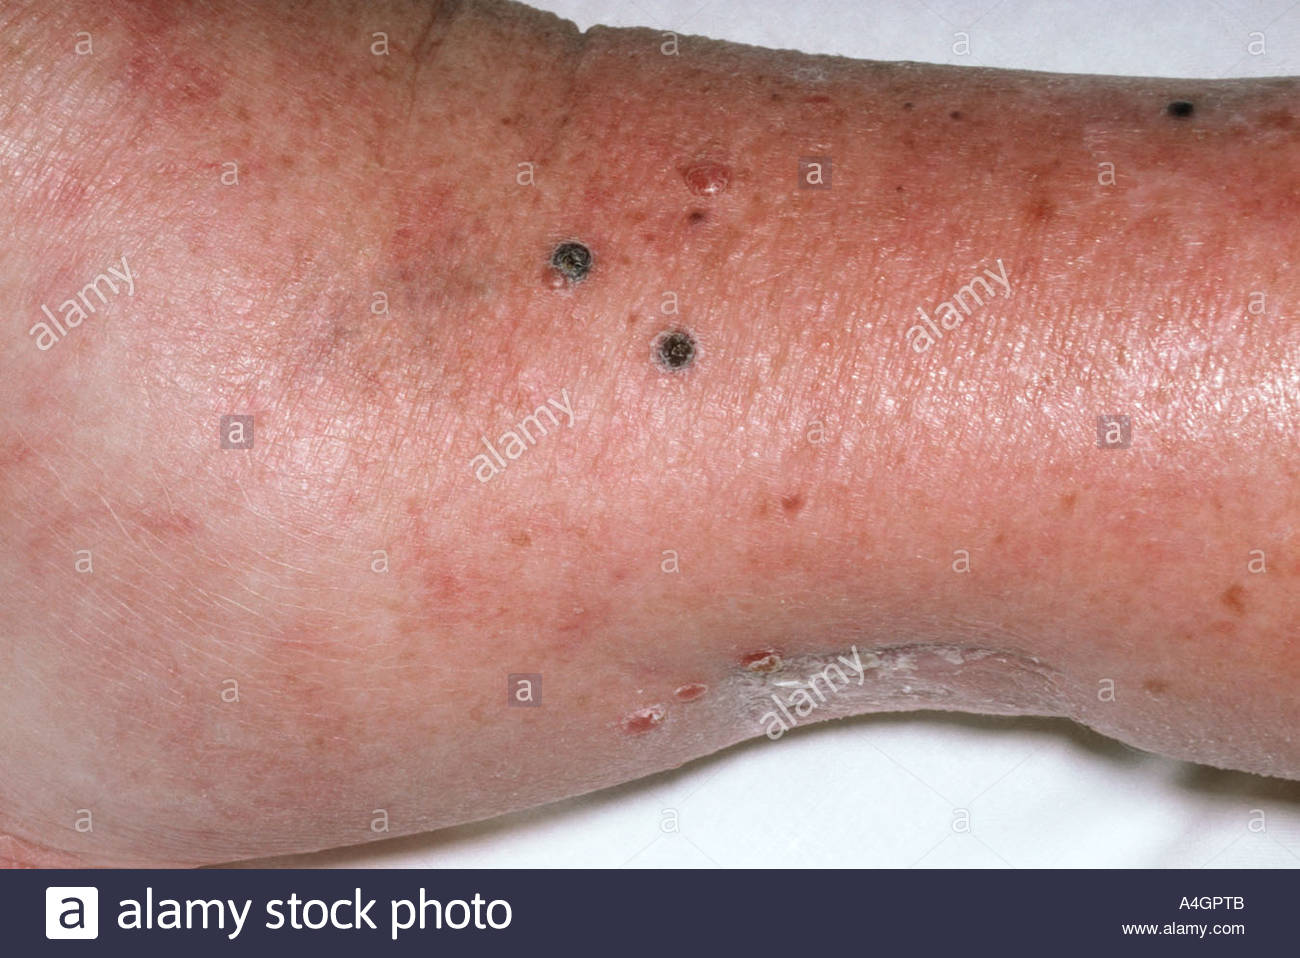melanoma: (474, 190, 798, 486)
